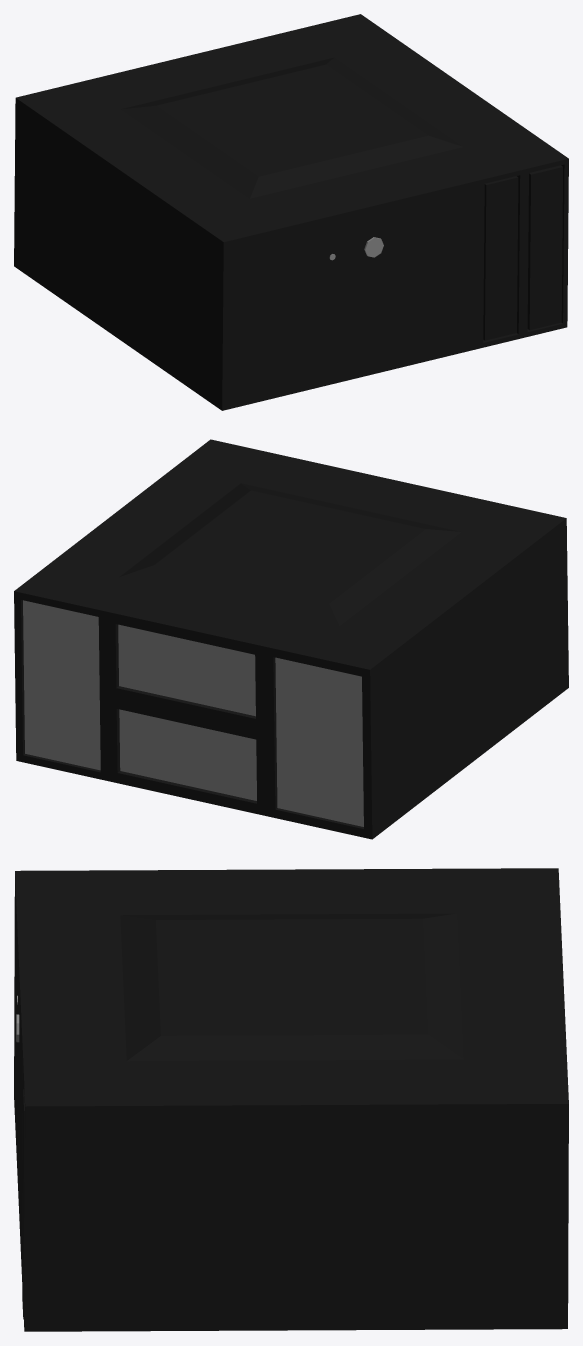
The model's file is keisV.glb.
3 views of the same model, one above another, from view 1: azimuth 30°, elevation 25°; view 2: azimuth 150°, elevation 25°; view 3: azimuth 270°, elevation 25° (orthographic). The views are drawn at different scales.
Parts seen in each view (by area): view 1: Computer; view 2: Computer; view 3: Computer.
Boxes of the visible parts, x1,y1,x2,y2 form: Computer: (14,14,568,410); Computer: (14,439,568,839); Computer: (14,868,568,1331).
Size of the model in its own units: 0.3428 by 0.1645 by 0.3416.
Materials: 1 (1 with a texture image).
